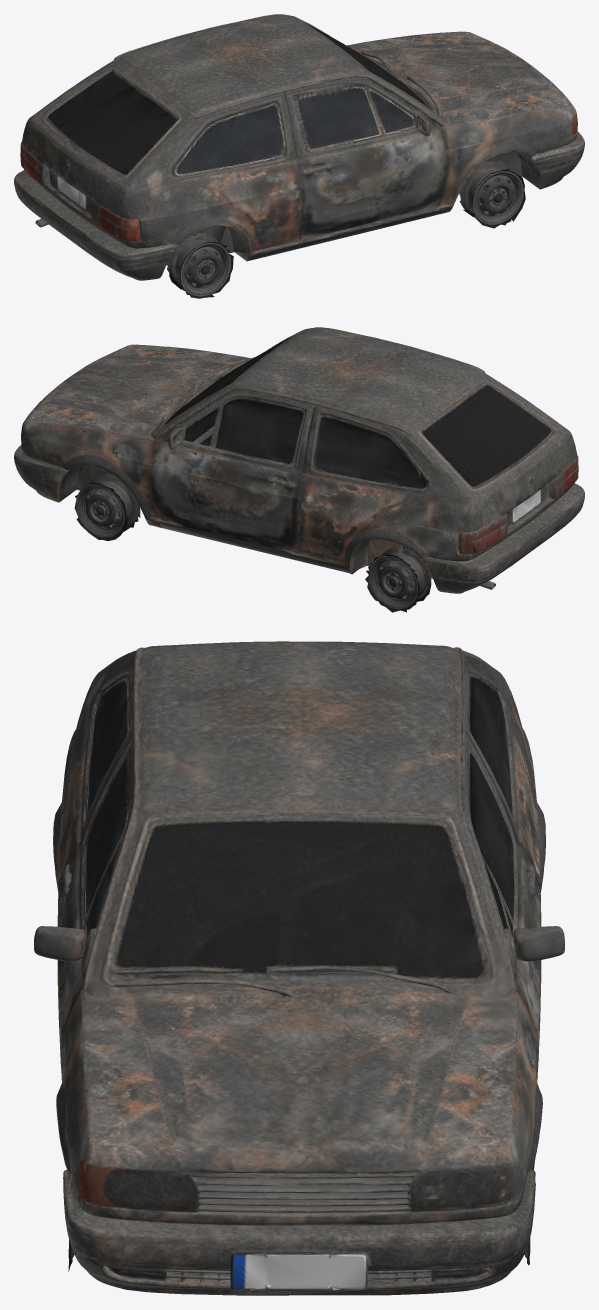
Rendered from hatch-quadrado-queimado__01a16dcf.glb.
3 views of the same model, one above another, from view 1: azimuth 30°, elevation 25°; view 2: azimuth 150°, elevation 25°; view 3: azimuth 270°, elevation 25° (orthographic). The views are drawn at different scales.
Parts seen in each view (by area): view 1: hatch-quadrado-queimado; view 2: hatch-quadrado-queimado; view 3: hatch-quadrado-queimado.
Part boxes in pixels (left/top/right/bottom): hatch-quadrado-queimado: left=14, top=14, right=584, bottom=298; hatch-quadrado-queimado: left=14, top=327, right=584, bottom=612; hatch-quadrado-queimado: left=34, top=641, right=564, bottom=1295.
Bounding box in the file's own units: 3.81 × 1.36 × 1.82.
Materials: 1 (1 with a texture image).
